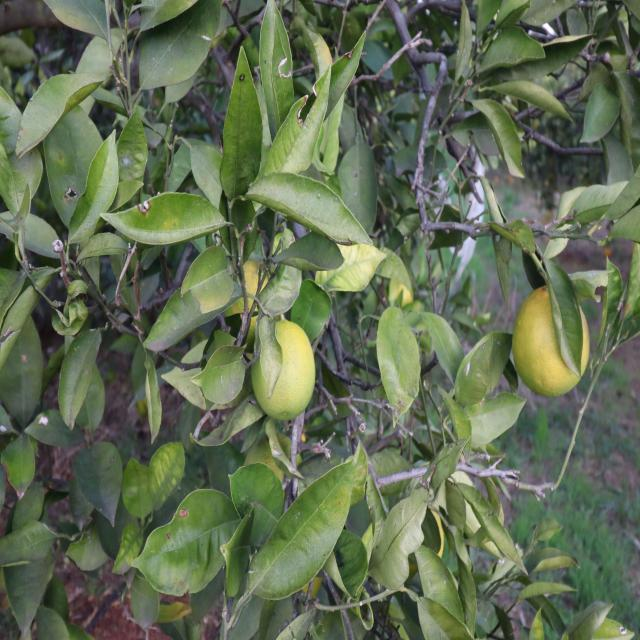Jeruk Belum Matang: (513, 284, 589, 398), (253, 318, 316, 420), (226, 256, 274, 348)
